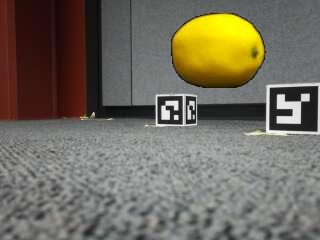lemon: (172, 14, 264, 88)
